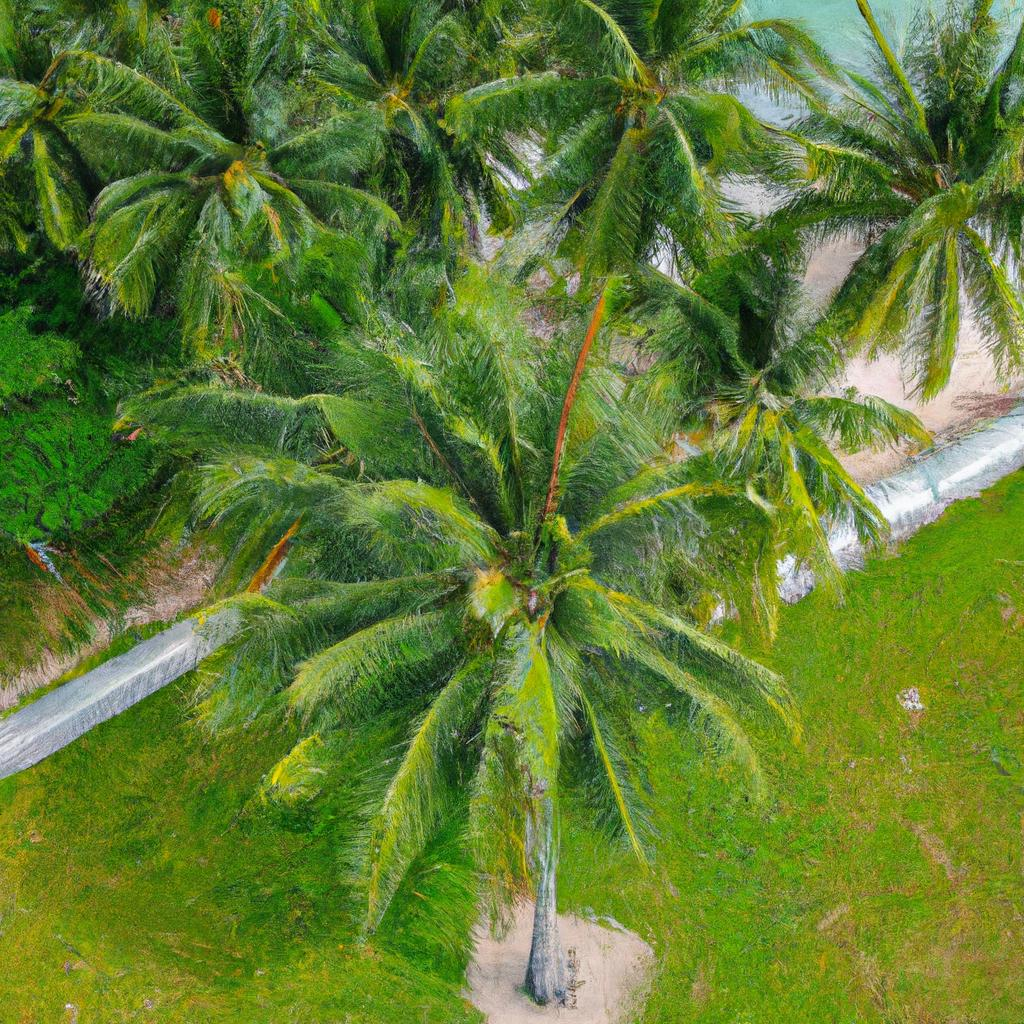coconut_tree: (171, 294, 790, 950), (35, 10, 449, 324), (476, 0, 790, 264)
